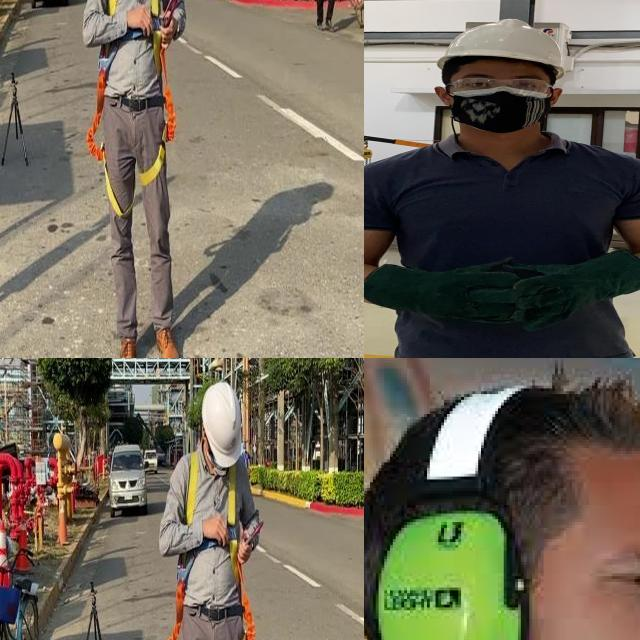Ear-protection: (369, 499, 529, 640)
Harness: (169, 464, 256, 640), (86, 68, 133, 218), (140, 45, 177, 188)
face_mask: (441, 71, 558, 129)
glasses: (443, 76, 555, 96)
hand_glove: (420, 259, 520, 326), (498, 260, 594, 328)
head_helmet: (434, 15, 571, 74)
person: (364, 16, 640, 358)
